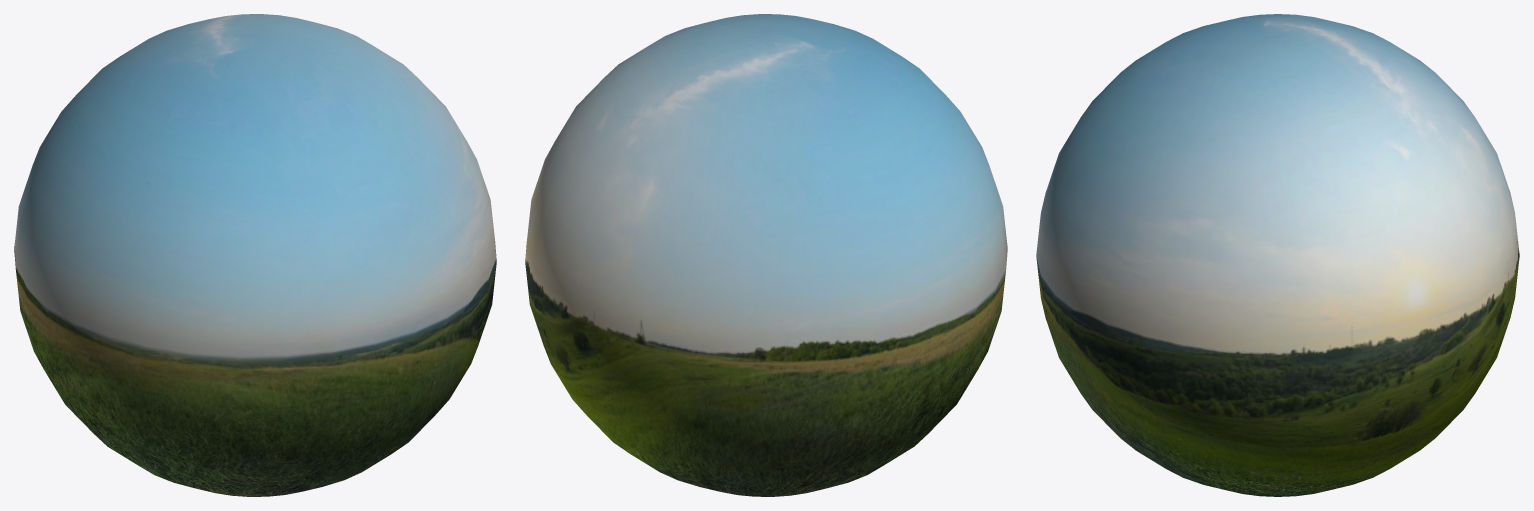
The model's file is exterior.obj.
The picture shows the model from 3 angles, left to right: view 1: azimuth 30°, elevation 25°; view 2: azimuth 150°, elevation 25°; view 3: azimuth 270°, elevation 25°; orthographic projection.
Parts seen in each view (by area): view 1: Sphere.001; view 2: Sphere.001; view 3: Sphere.001.
Part boxes in pixels (x1,y1,x2,y2): Sphere.001: (14, 14, 496, 496); Sphere.001: (525, 14, 1007, 496); Sphere.001: (1036, 14, 1519, 496).
Size of the model in its own units: 600 by 600 by 600.
